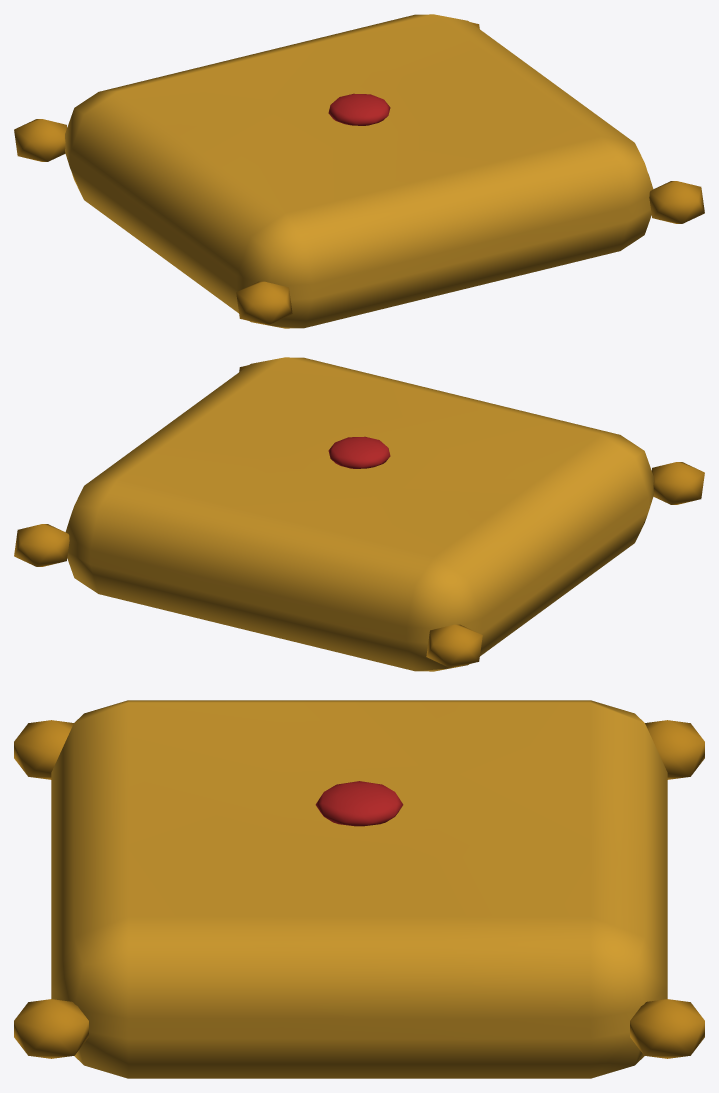
The model's file is furn_silk_cushion.glb.
3 renders of one model, top to bottom at view 1: azimuth 30°, elevation 25°; view 2: azimuth 150°, elevation 25°; view 3: azimuth 270°, elevation 25°, orthographic. The views are drawn at different scales.
Parts seen in each view (by area): view 1: furn_silk_cushion_main; view 2: furn_silk_cushion_main; view 3: furn_silk_cushion_main.
Boxes of the visible parts, <box> form: furn_silk_cushion_main: <box>14,14,704,328</box>; furn_silk_cushion_main: <box>14,357,704,671</box>; furn_silk_cushion_main: <box>14,700,704,1078</box>.
Size of the model in its own units: 0.6716 by 0.18 by 0.6281.
